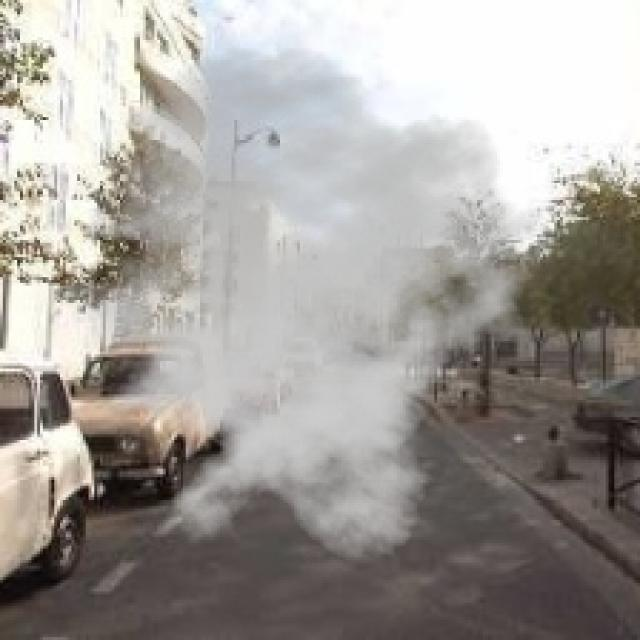Smoke: (29, 46, 558, 563)
